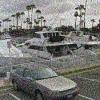cars: (10, 63, 80, 100)
